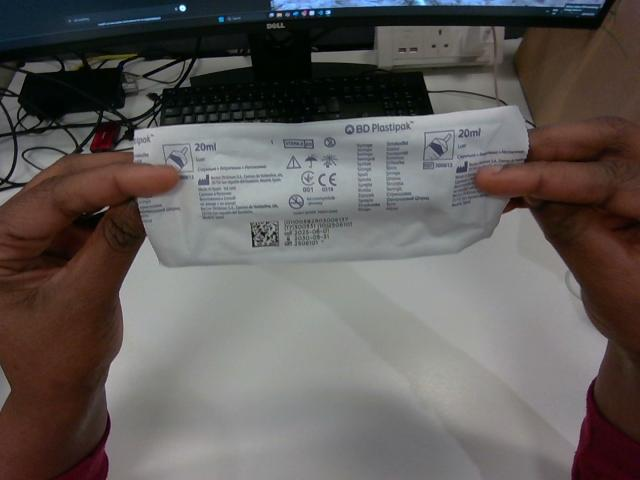syringe: (134, 107, 527, 265)
